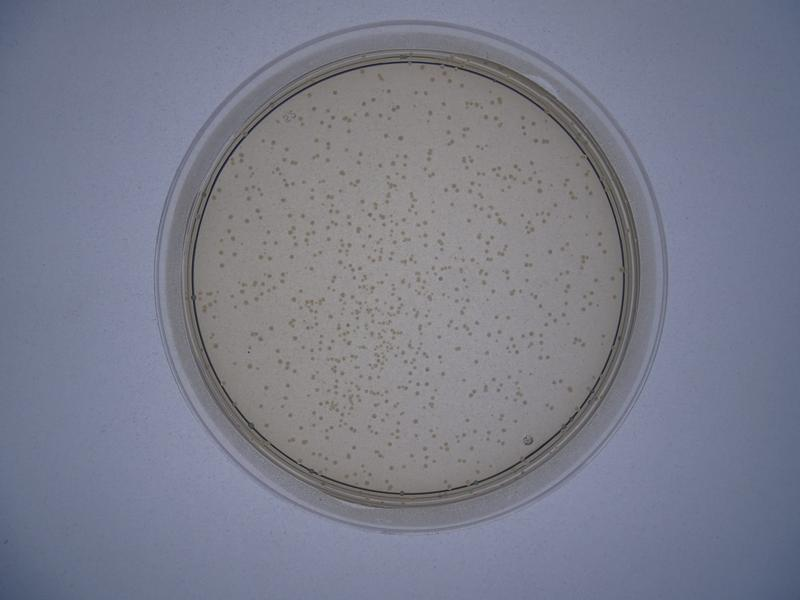colony: (333, 163, 349, 179), (377, 127, 392, 144), (283, 248, 300, 263), (323, 307, 337, 324), (452, 341, 467, 356), (276, 193, 293, 206), (433, 329, 446, 346), (519, 274, 537, 286), (428, 206, 444, 219), (292, 420, 308, 433), (523, 155, 537, 169), (367, 409, 381, 423), (251, 250, 266, 263), (265, 321, 278, 336), (238, 215, 254, 227), (259, 381, 272, 395), (280, 378, 294, 391), (563, 383, 577, 396), (589, 273, 603, 286), (394, 131, 409, 143), (440, 124, 455, 136), (269, 344, 284, 356), (486, 284, 501, 296), (459, 414, 474, 426), (501, 311, 514, 324), (543, 247, 556, 260), (215, 258, 228, 271), (419, 362, 432, 375), (408, 414, 421, 427), (402, 448, 415, 461), (385, 460, 398, 473), (288, 331, 301, 344), (437, 97, 451, 109), (284, 208, 296, 222), (462, 214, 476, 226), (445, 196, 459, 208), (343, 125, 356, 137), (340, 142, 352, 155), (481, 345, 493, 358), (287, 292, 299, 305), (436, 367, 449, 379), (239, 296, 251, 309), (261, 226, 274, 238), (352, 147, 366, 158), (375, 108, 386, 122), (222, 210, 236, 221), (228, 248, 242, 259), (562, 297, 573, 311), (319, 433, 333, 444), (532, 186, 546, 197), (249, 204, 264, 214), (279, 392, 294, 402), (491, 308, 501, 323), (278, 145, 294, 154), (410, 388, 426, 397), (284, 408, 296, 420), (418, 441, 430, 453), (374, 159, 385, 172), (244, 359, 255, 372), (544, 351, 555, 364), (486, 372, 499, 383), (348, 439, 359, 452), (535, 301, 548, 312), (380, 268, 393, 279), (457, 374, 471, 384), (421, 239, 431, 253), (443, 112, 455, 123), (321, 153, 333, 164), (471, 315, 482, 327), (367, 94, 380, 104), (471, 358, 484, 368), (332, 257, 345, 267), (254, 401, 266, 411), (523, 250, 533, 260), (426, 106, 434, 118), (485, 329, 495, 338), (466, 443, 476, 452)
